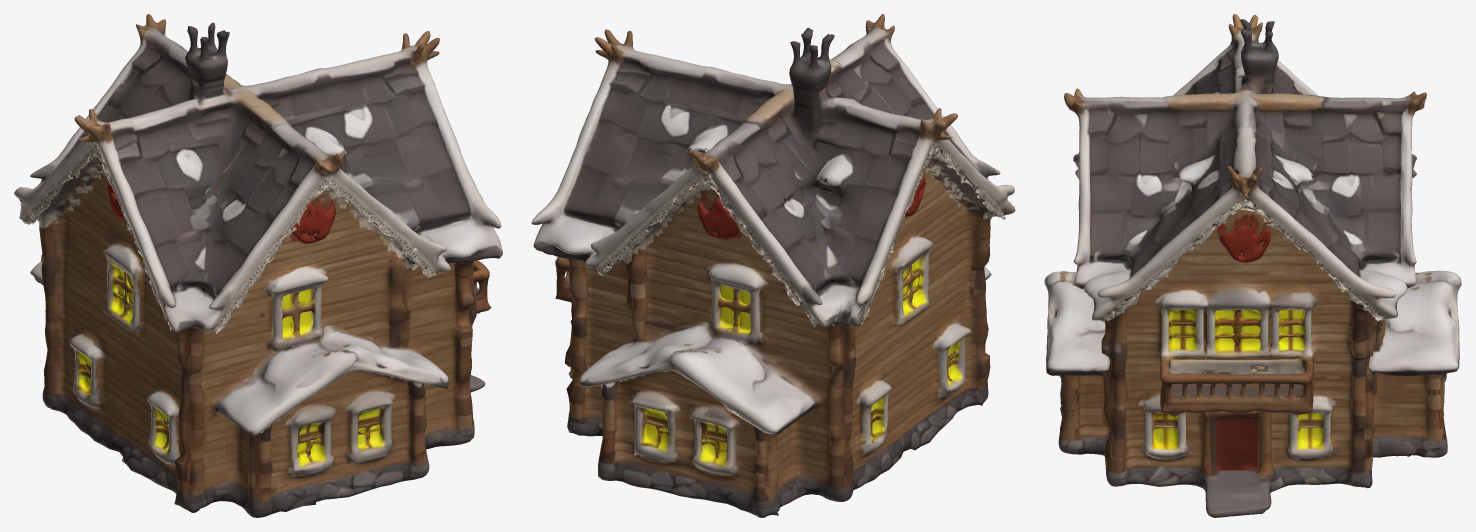
Rendered from tomsk_wooden_firebirds.glb.
The picture shows the model from 3 angles, left to right: view 1: azimuth 30°, elevation 25°; view 2: azimuth 150°, elevation 25°; view 3: azimuth 270°, elevation 25°; orthographic projection. The views are drawn at different scales.
Parts seen in each view (by area): view 1: tripo_node_f0e2775e-f1c1-438c-878d-a1ab2d9e13ef; view 2: tripo_node_f0e2775e-f1c1-438c-878d-a1ab2d9e13ef; view 3: tripo_node_f0e2775e-f1c1-438c-878d-a1ab2d9e13ef.
Part boxes in pixels (x1,y1,x2,y2): tripo_node_f0e2775e-f1c1-438c-878d-a1ab2d9e13ef: (14,14,502,517); tripo_node_f0e2775e-f1c1-438c-878d-a1ab2d9e13ef: (531,14,1015,517); tripo_node_f0e2775e-f1c1-438c-878d-a1ab2d9e13ef: (1044,14,1461,517).
Size of the model in its own units: 0.9701 by 0.9594 by 0.9577.
1 material, 1 textured.
